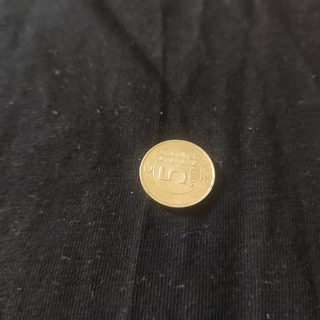5KURUS: (137, 138, 217, 209)
